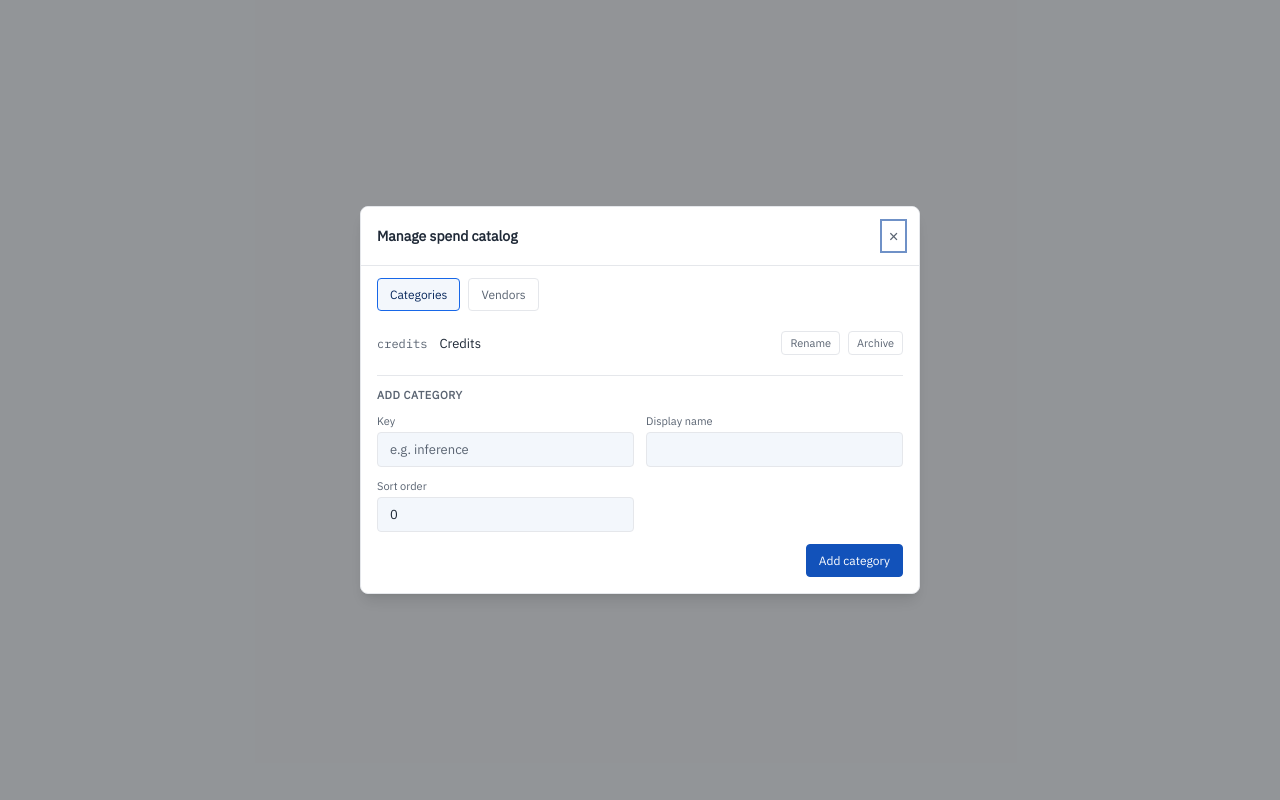
SpendCatalogModal › switches to the vendor axis on tab click
Click the tab "Vendors": (504, 294) [468, 278, 539, 311]
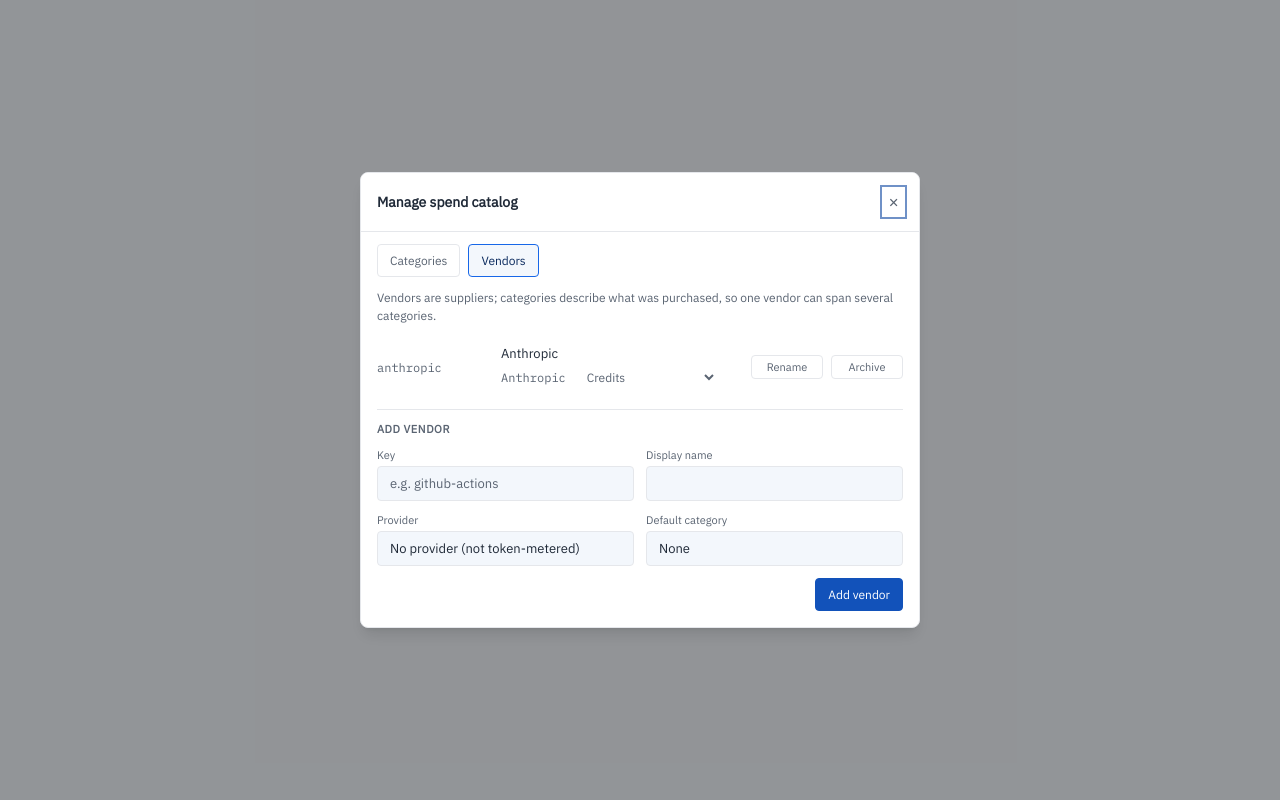
Expected: the 1st text "Anthropic" is shown, [501, 345, 558, 362]
